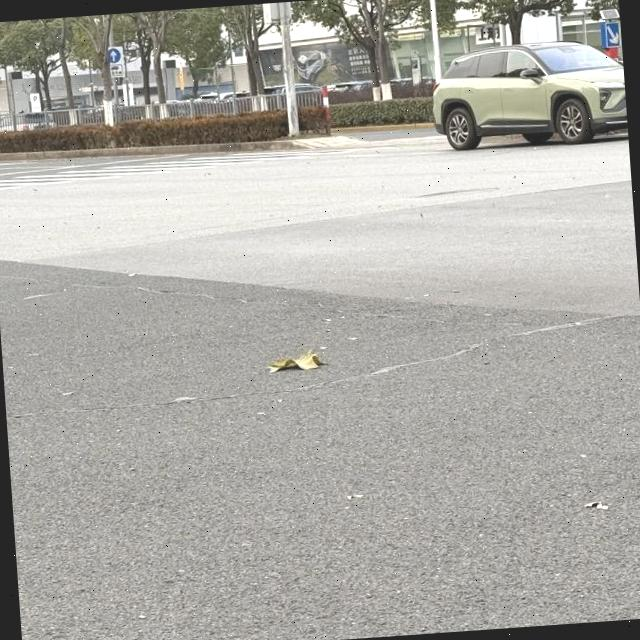curb: (0, 140, 302, 160), (332, 121, 433, 133)
